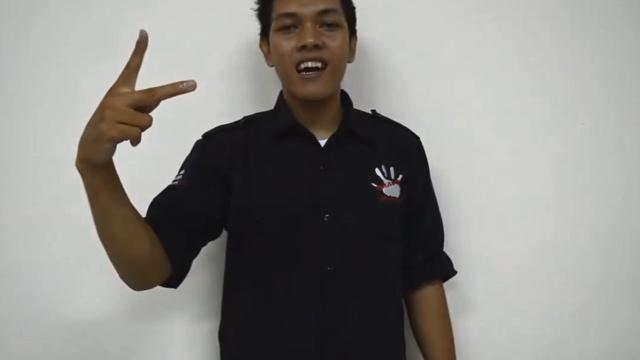K: (74, 25, 200, 176)
